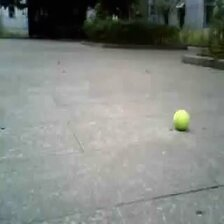tennis: (173, 109, 190, 128)
